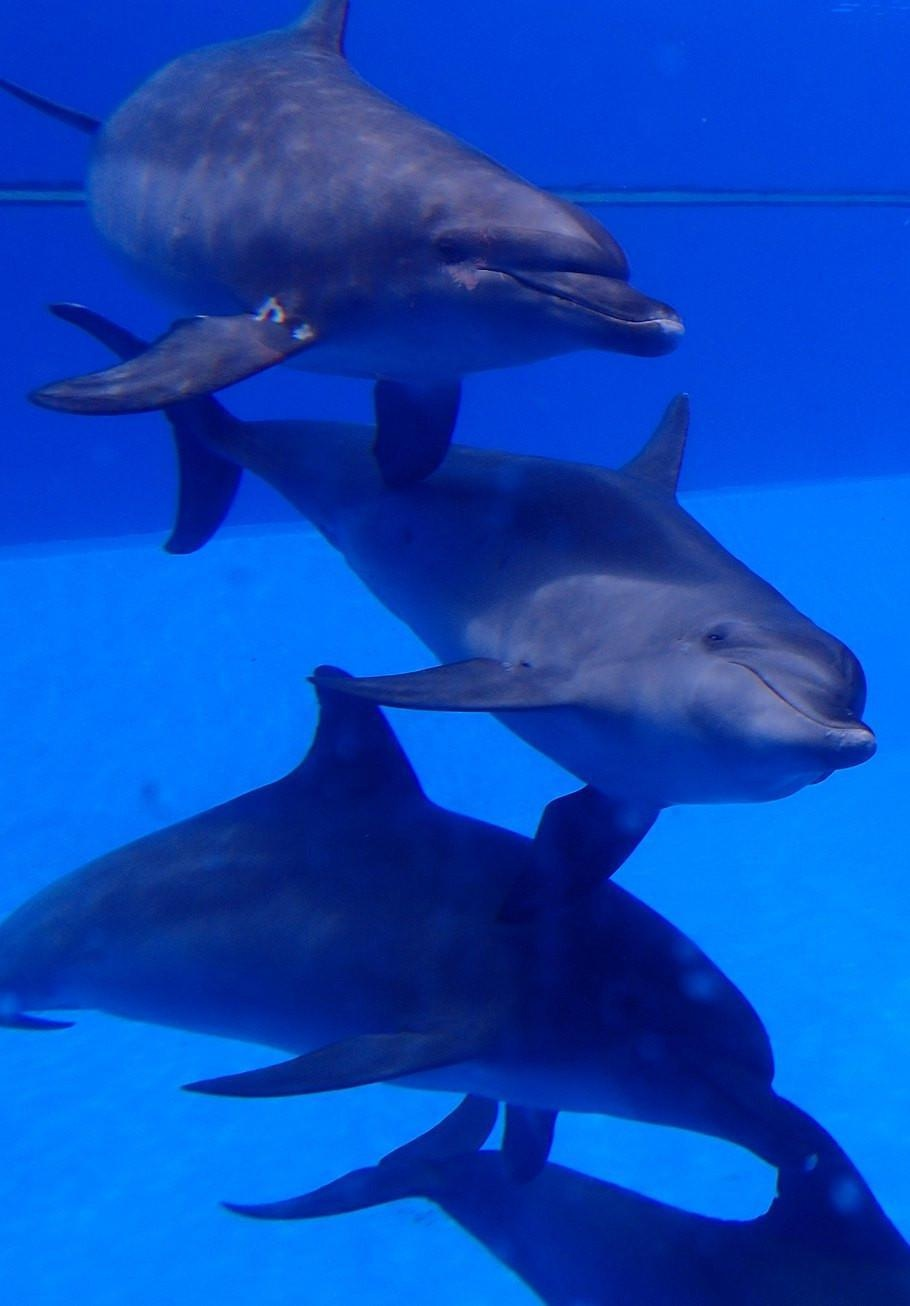fish: (45, 297, 884, 845), (11, 658, 834, 1180), (1, 1, 712, 406)
